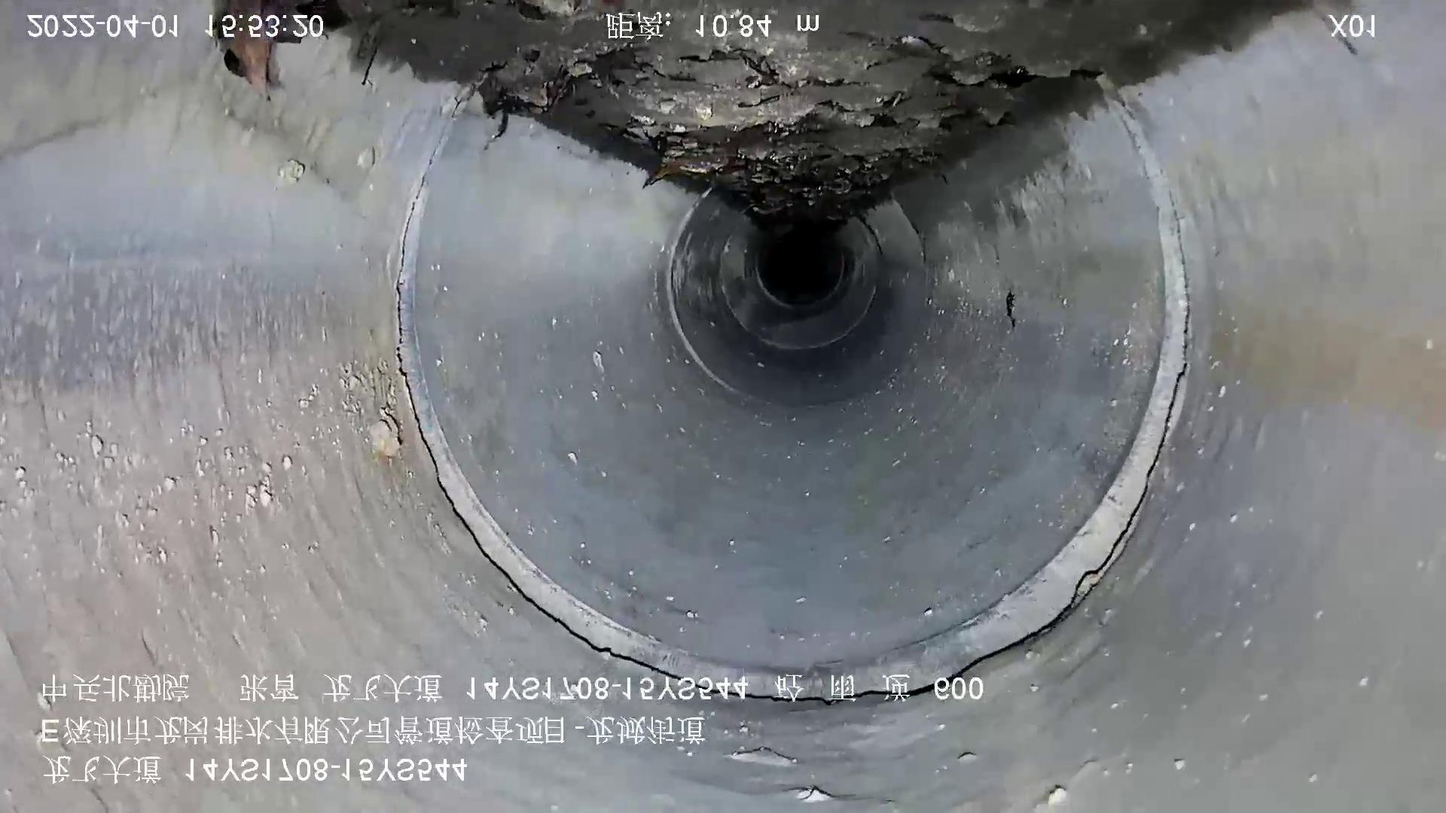CJ: (340, 1, 1309, 228)
CKTJ: (395, 93, 1189, 705), (664, 187, 743, 394)
